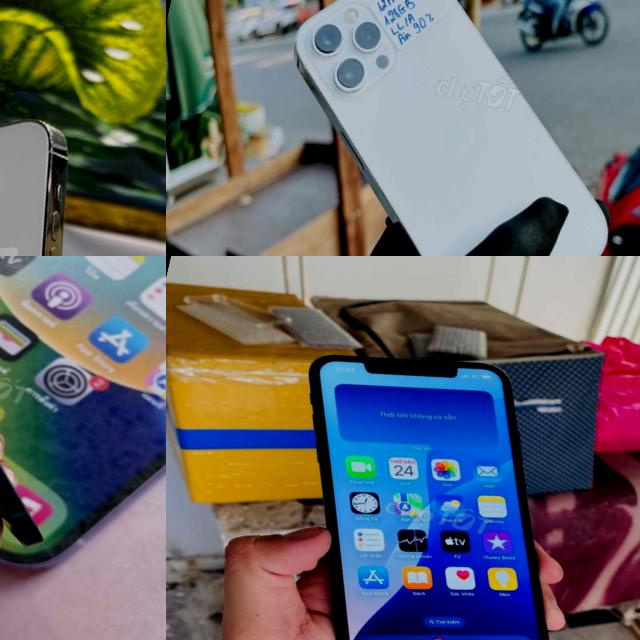gen_12_13: (294, 0, 605, 256), (0, 256, 101, 550)
gen_14: (0, 88, 142, 256)
gen_x_xs: (237, 323, 618, 640)
